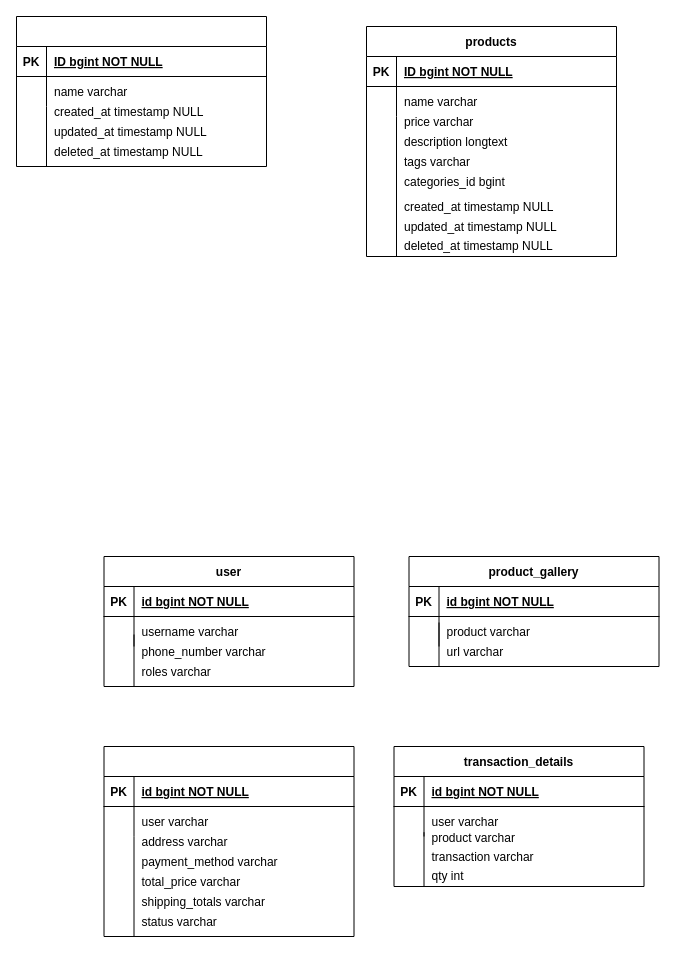
The diagram is 675 pixels wide and 953 high, and some of its shapes have lost their labels. Each missing label, with the box of its shape:
product_categories: (16, 16, 266, 166)
transaction: (103, 746, 354, 936)
